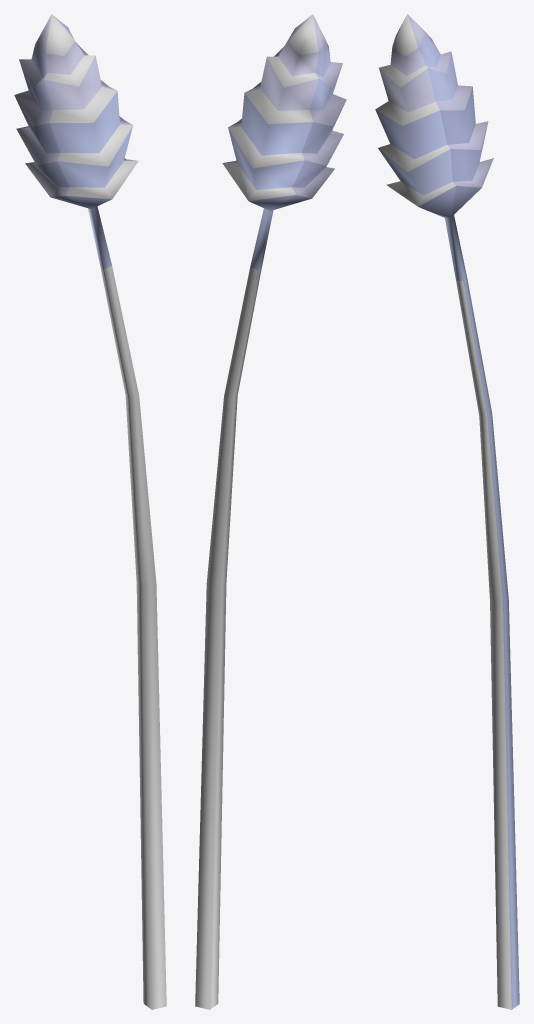
Rendered from Prop_Flower_02.fbx.
3 renders of one model, left to right at view 1: azimuth 30°, elevation 25°; view 2: azimuth 150°, elevation 25°; view 3: azimuth 330°, elevation 25°, orthographic. The views are drawn at different scales.
Visible parts, largest first — view 1: Model_Plant_Flower_02; view 2: Model_Plant_Flower_02; view 3: Model_Plant_Flower_02.
Part boxes in pixels (box(x1,y1,x2,y2)): Model_Plant_Flower_02: box(14, 14, 166, 1009); Model_Plant_Flower_02: box(195, 14, 346, 1009); Model_Plant_Flower_02: box(375, 14, 519, 1009).
Bounding box in the file's own units: 43.08 × 318 × 34.28.
